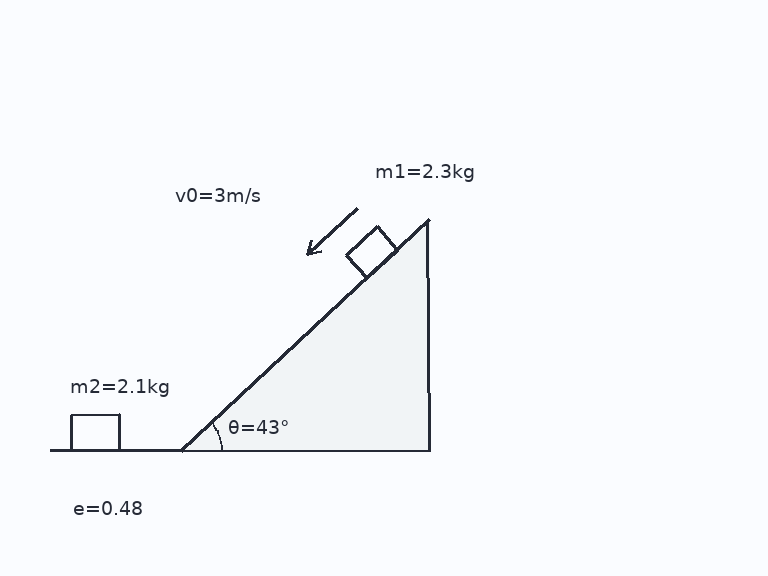block: (344, 225, 399, 280), (69, 412, 121, 452)
ramp: (180, 217, 431, 452)
